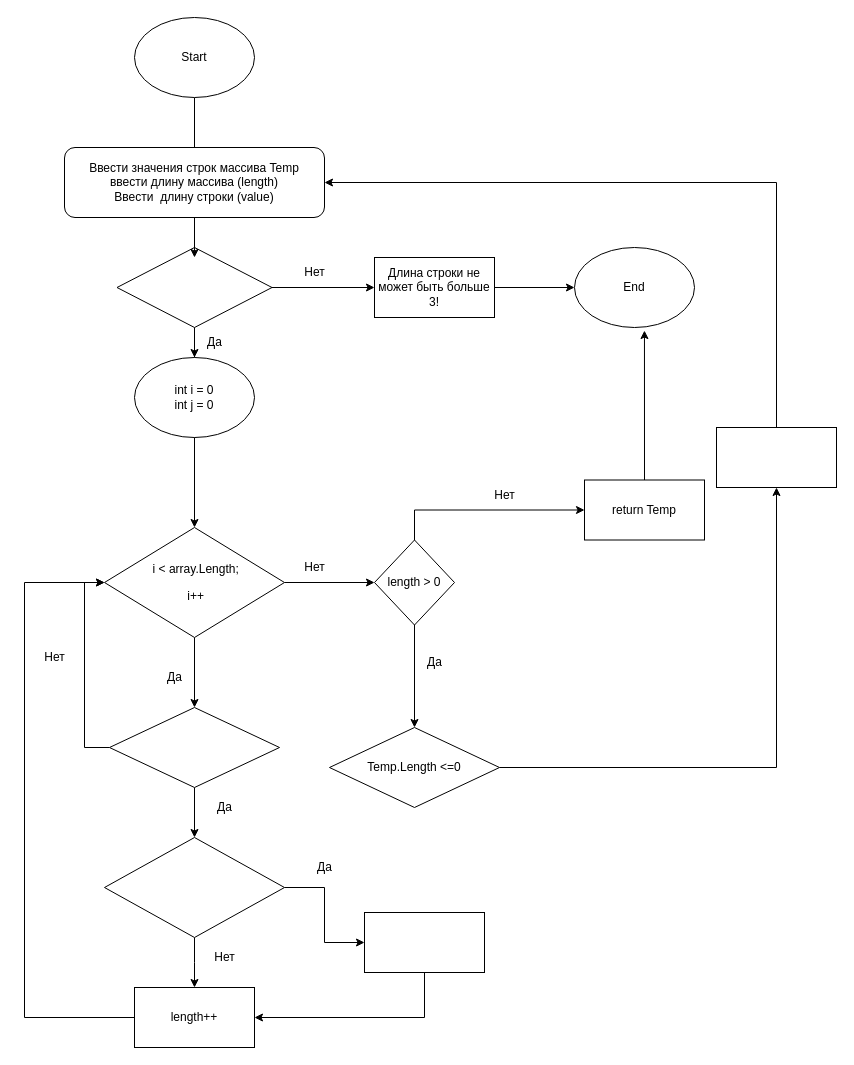
The diagram is 854 pixels wide and 1065 high, and some of its shapes have lost their labels. The shapes that lost their labels are listed below. From the top down, each one's centre as x and y in pixels, then its label:
At point (194, 287): "value <=3".
At point (776, 457): "Начать проходить проверку заново".
At point (194, 747): "array[].Length <= value".
At point (194, 887): "Temp.Length > 0 && j < Temp.Length".
At point (424, 942): "Temp[j] = array[i]; j++;".
